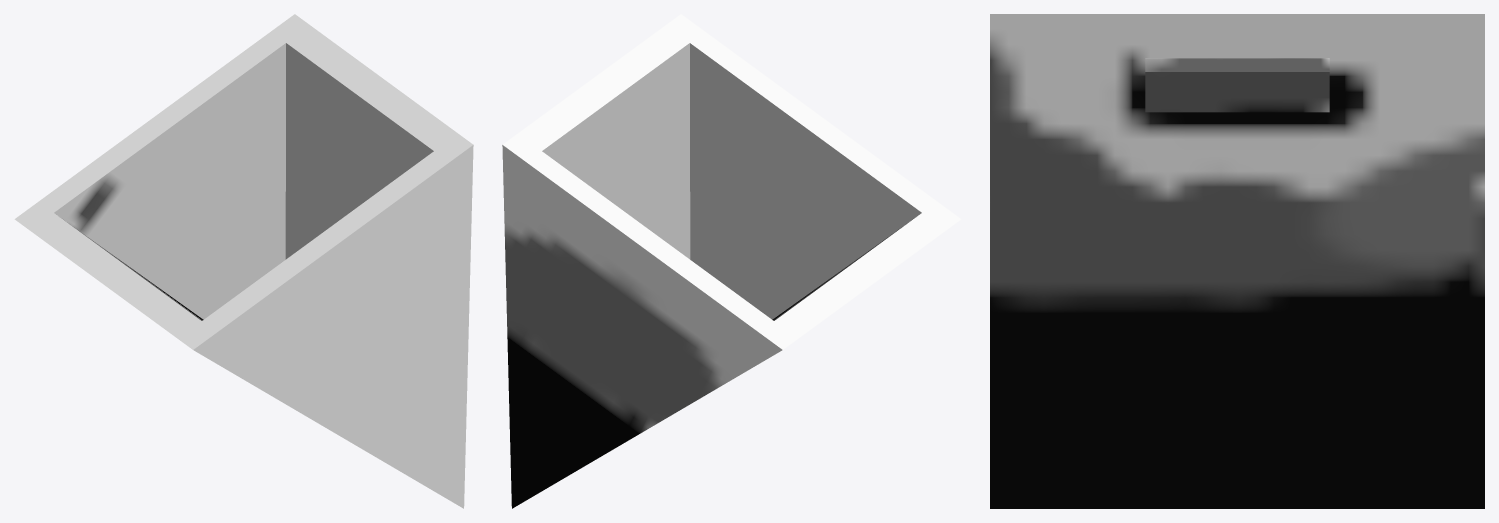
File: transfer.glb
The picture shows the model from 3 angles, left to right: view 1: azimuth 30°, elevation 25°; view 2: azimuth 150°, elevation 25°; view 3: azimuth 270°, elevation 25°; orthographic projection. The views are drawn at different scales.
Parts seen in each view (by area): view 1: Cube; view 2: Cube; view 3: Cube.
Boxes of the visible parts, x1=… form: Cube: x1=14, y1=14, x2=473, y2=508; Cube: x1=502, y1=14, x2=961, y2=508; Cube: x1=990, y1=14, x2=1484, y2=508.
Bounding box in the file's own units: 0.6721 × 0.7823 × 0.7.
Materials: 1 (1 with a texture image).
